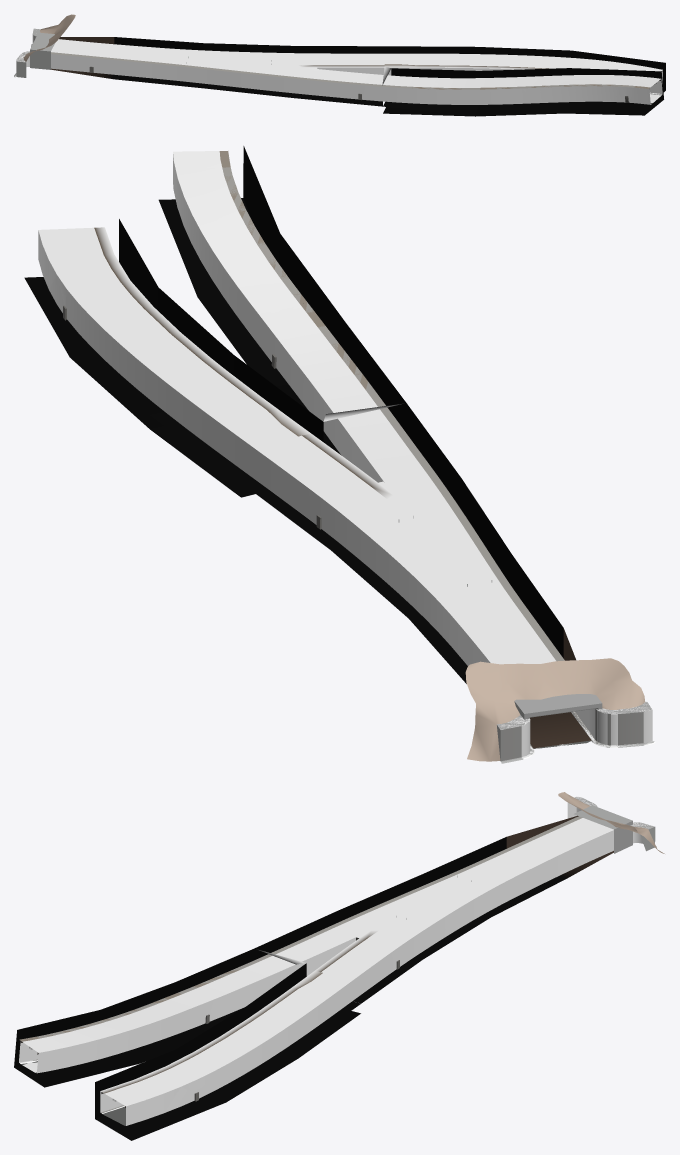
File: tunnel_city2.dae
3 views of the same model, one above another, from view 1: azimuth 30°, elevation 25°; view 2: azimuth 150°, elevation 25°; view 3: azimuth 270°, elevation 25° (orthographic). The views are drawn at different scales.
Parts seen in each view (by area): view 1: tunnel_city2_a2500, tunnel_city2_a6000, tunnel_city2_a1000; view 2: tunnel_city2_a2500, tunnel_city2_a6000, tunnel_city2_a1000; view 3: tunnel_city2_a2500, tunnel_city2_a6000, tunnel_city2_a1000.
Part boxes in pixels (x1,y1,x2,y2): tunnel_city2_a2500: (17, 14, 662, 104); tunnel_city2_a6000: (14, 34, 665, 116); tunnel_city2_a1000: (14, 28, 665, 116); tunnel_city2_a2500: (38, 153, 651, 761); tunnel_city2_a6000: (24, 146, 655, 759); tunnel_city2_a1000: (70, 146, 654, 763); tunnel_city2_a2500: (20, 792, 664, 1125); tunnel_city2_a6000: (14, 796, 649, 1140); tunnel_city2_a1000: (14, 797, 655, 1117).
Size of the model in its own units: 194 by 171 by 19.58.
